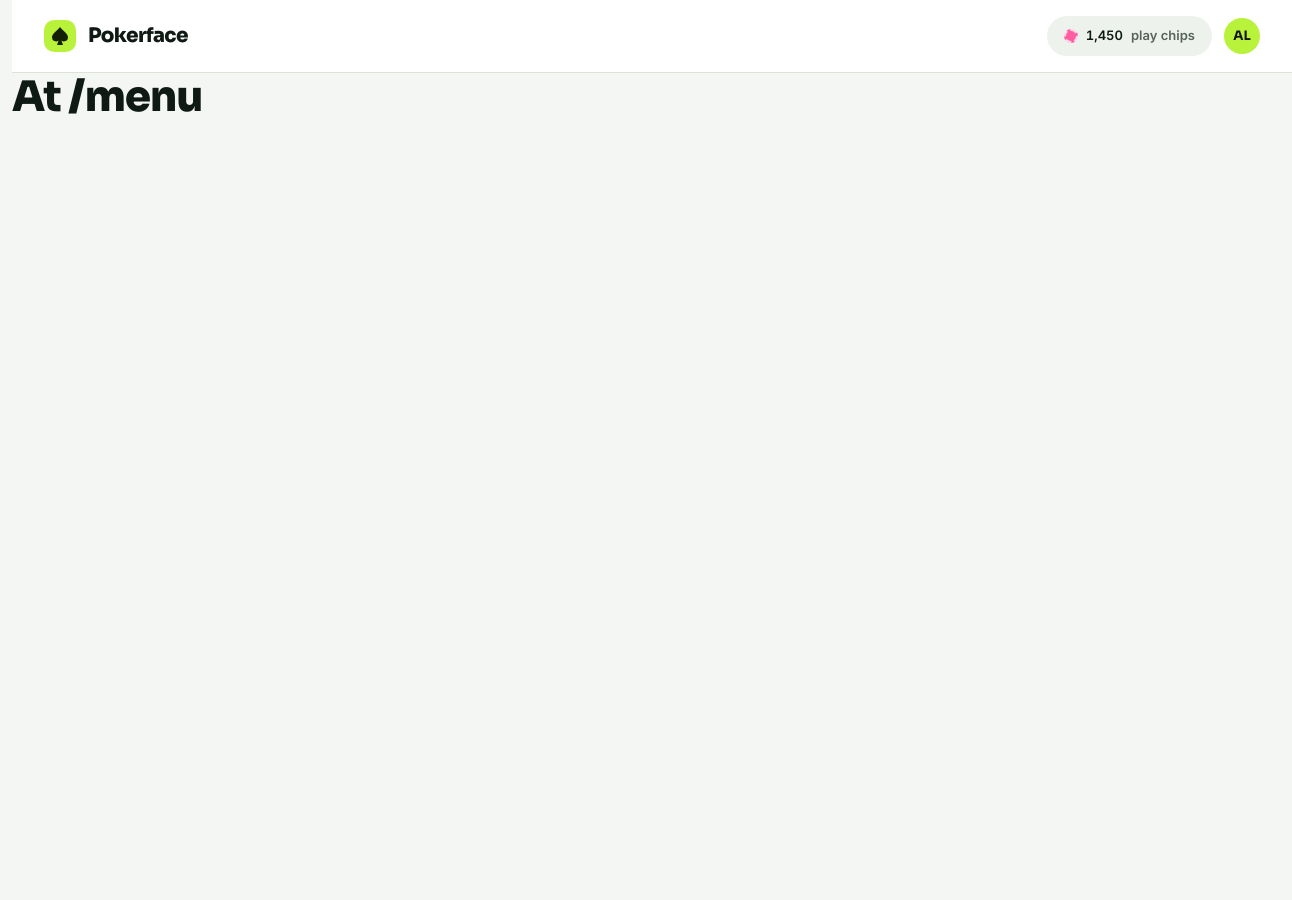
Test case: TopBar menu › closes on Escape and on a click outside
Click the button with aria-label "Alex: open menu". click: click(1242, 36)
box: [1224,18,1260,54]
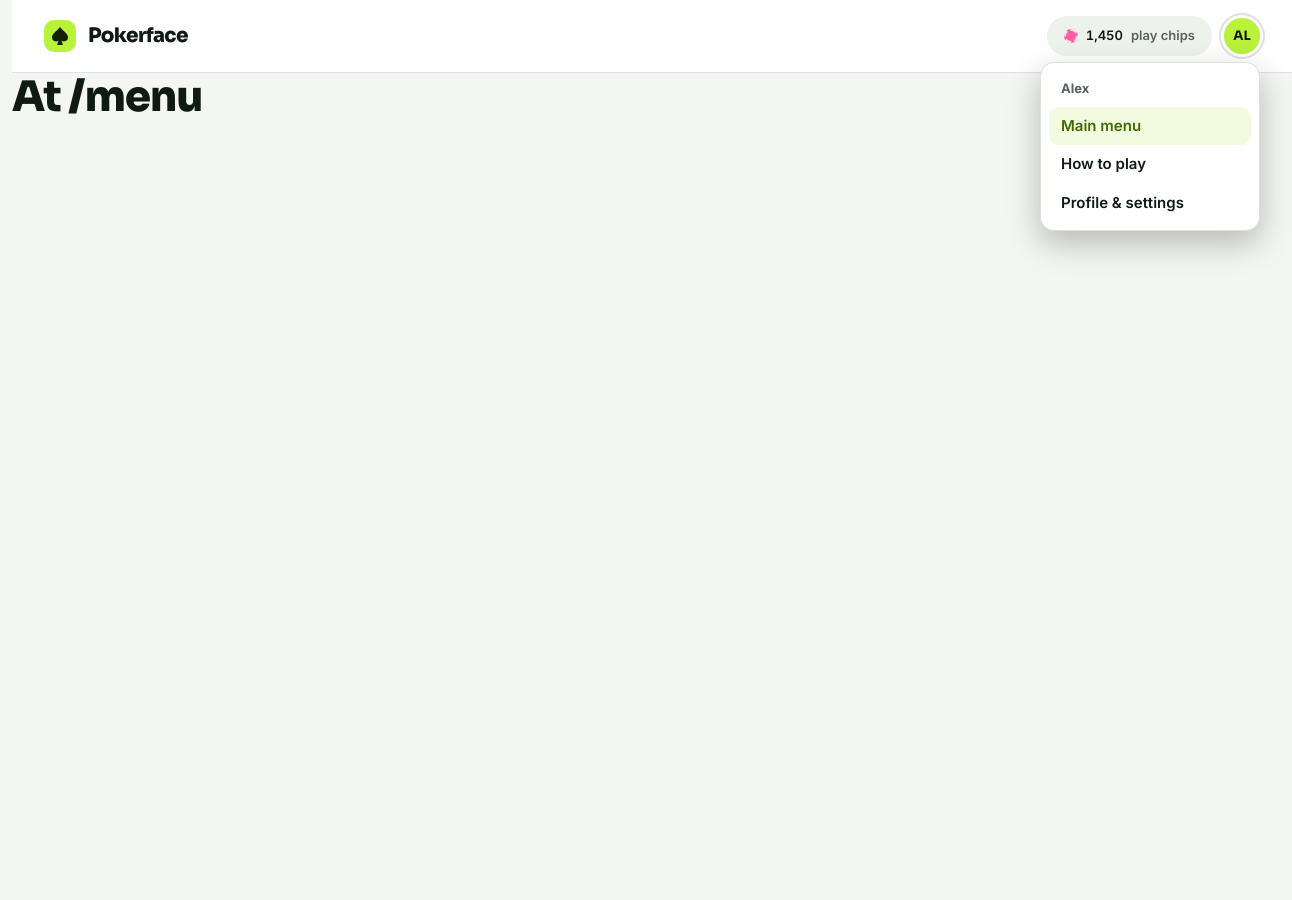
Press Escape
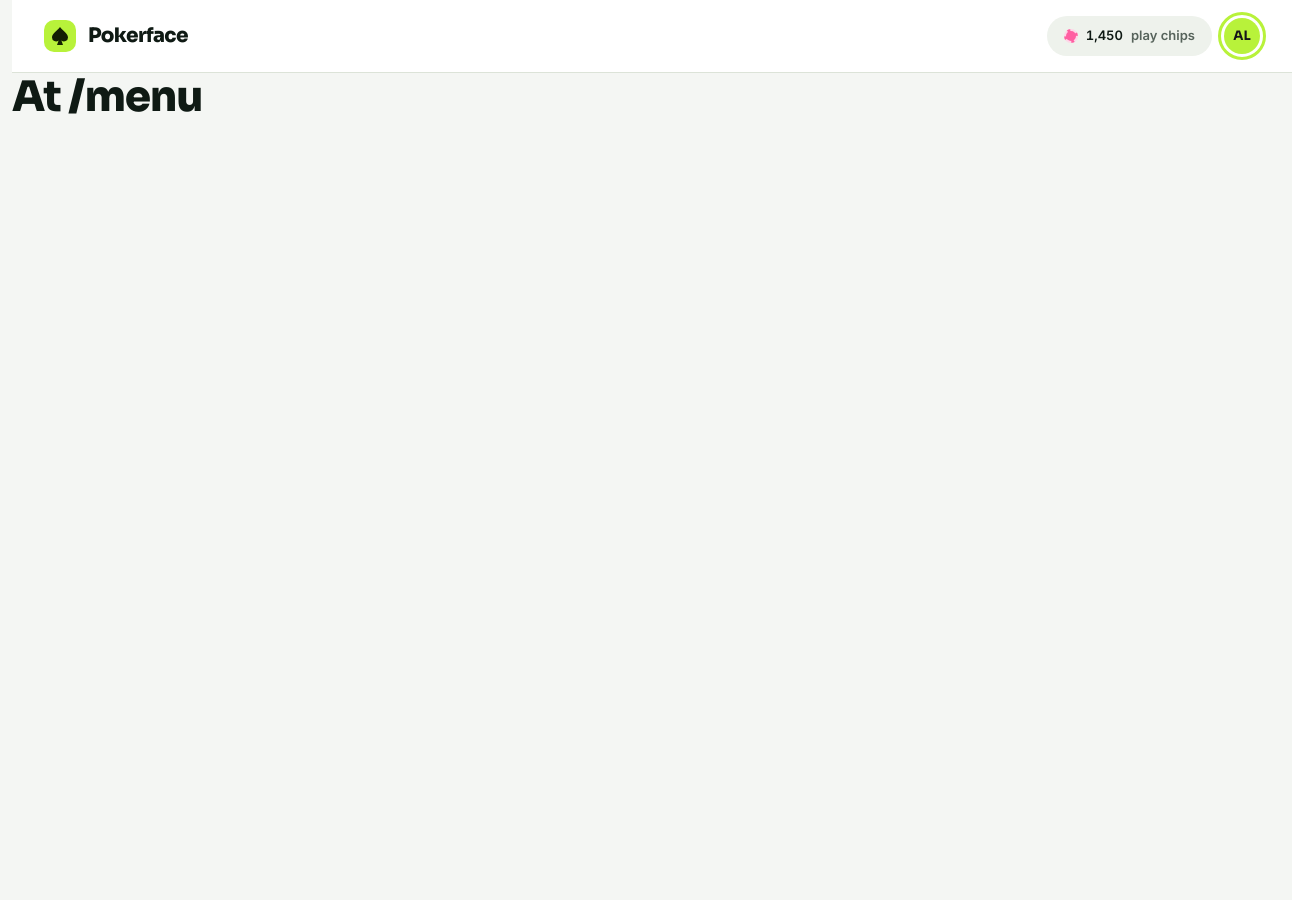
Check: the navigation bar is gone
Click the button with aria-label "Alex: open menu". click: click(1242, 36)
box: [1224,18,1260,54]
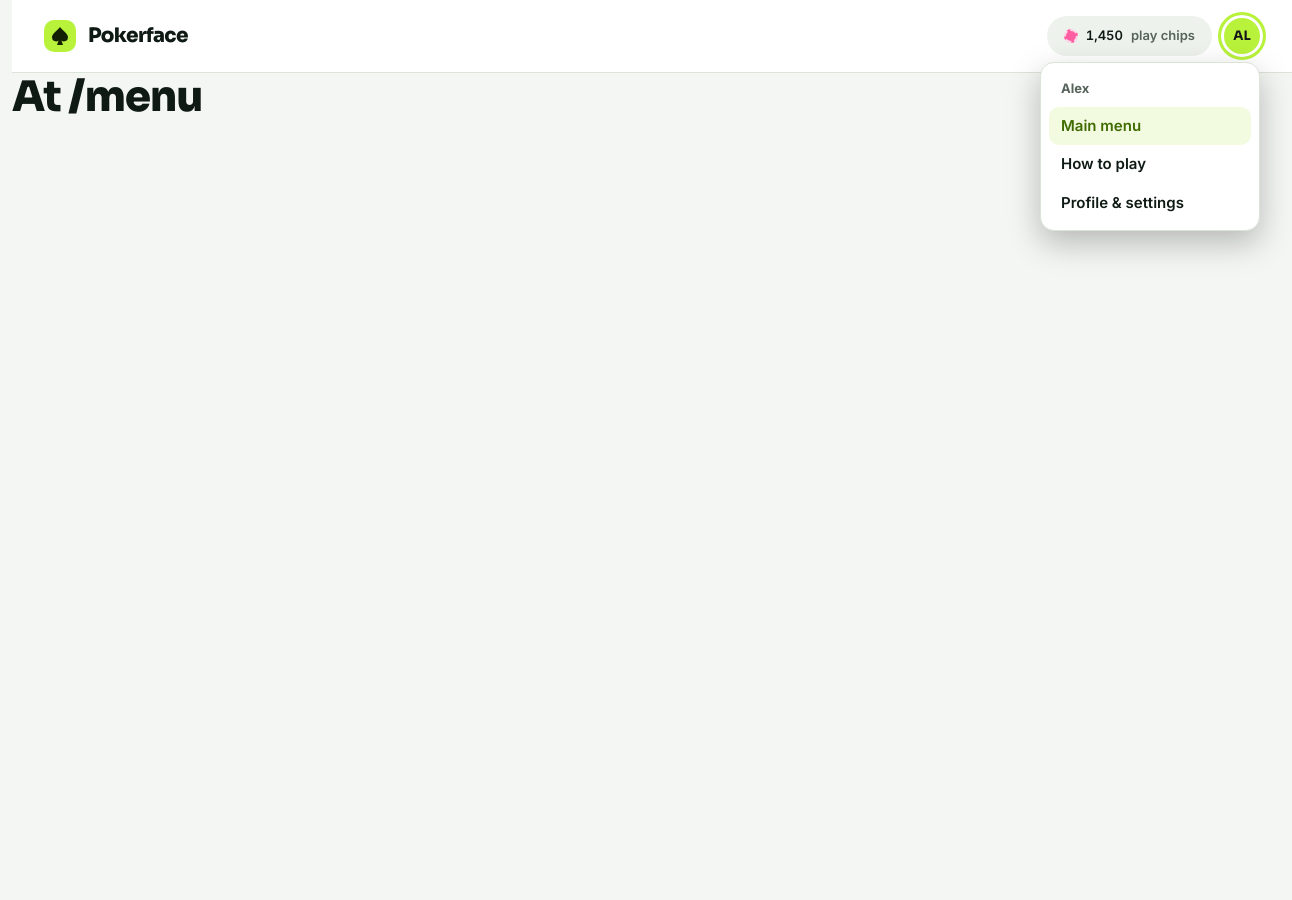
Press the mouse on the element that starts with "Pokerface" at (652, 450), box [12,0,1291,899]
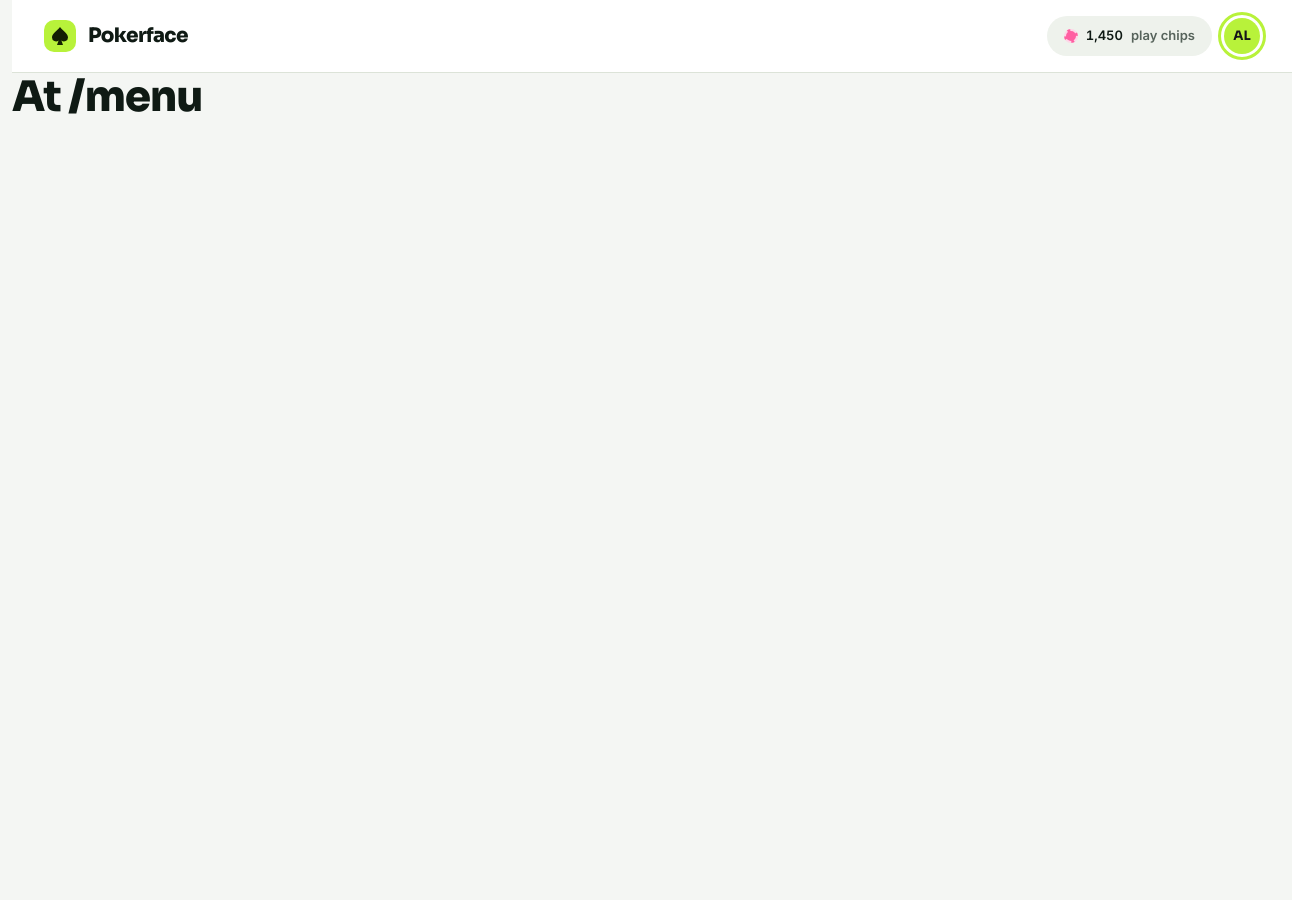
Check: the navigation bar is gone
